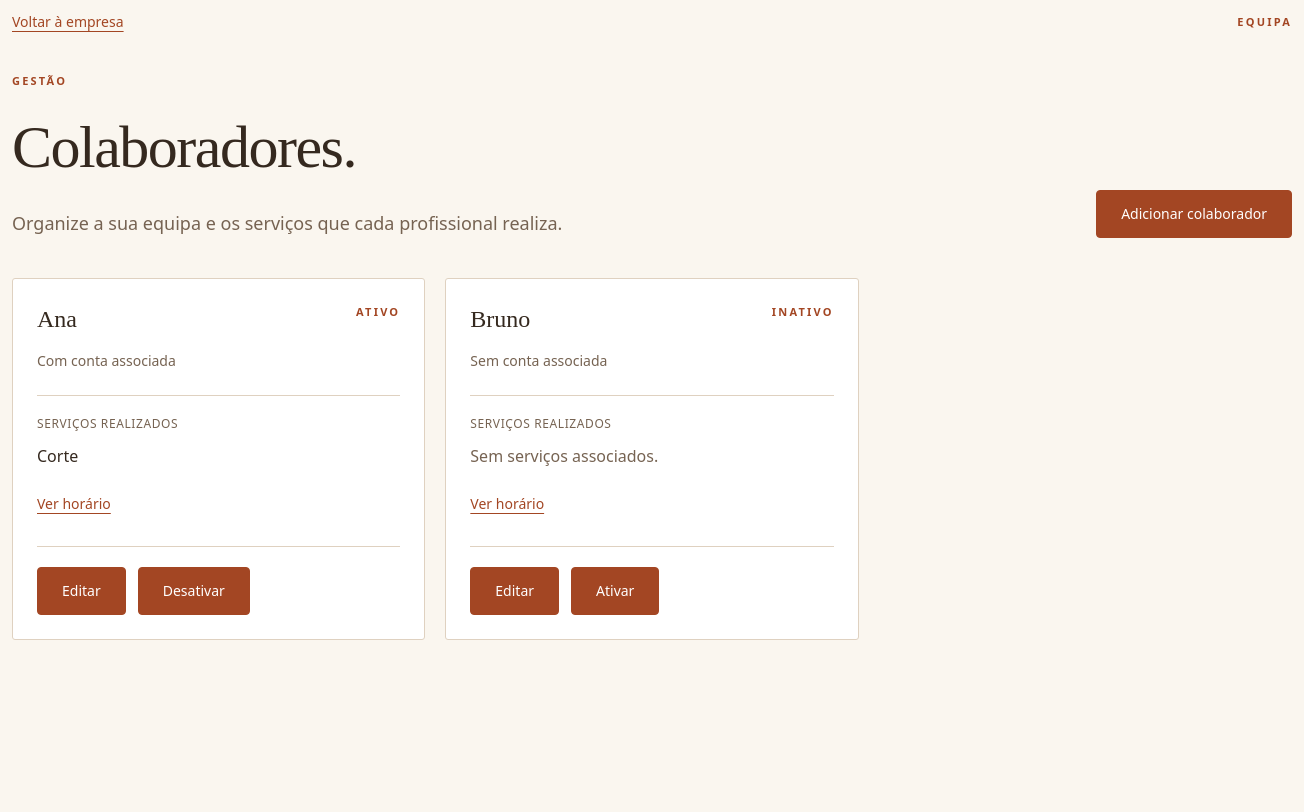
mostra falha de estado e volta a permitir a operação
The width and height of the screenshot is (1304, 812).
Click the button "Desativar": {"x": 194, "y": 591} [138, 567, 250, 615]
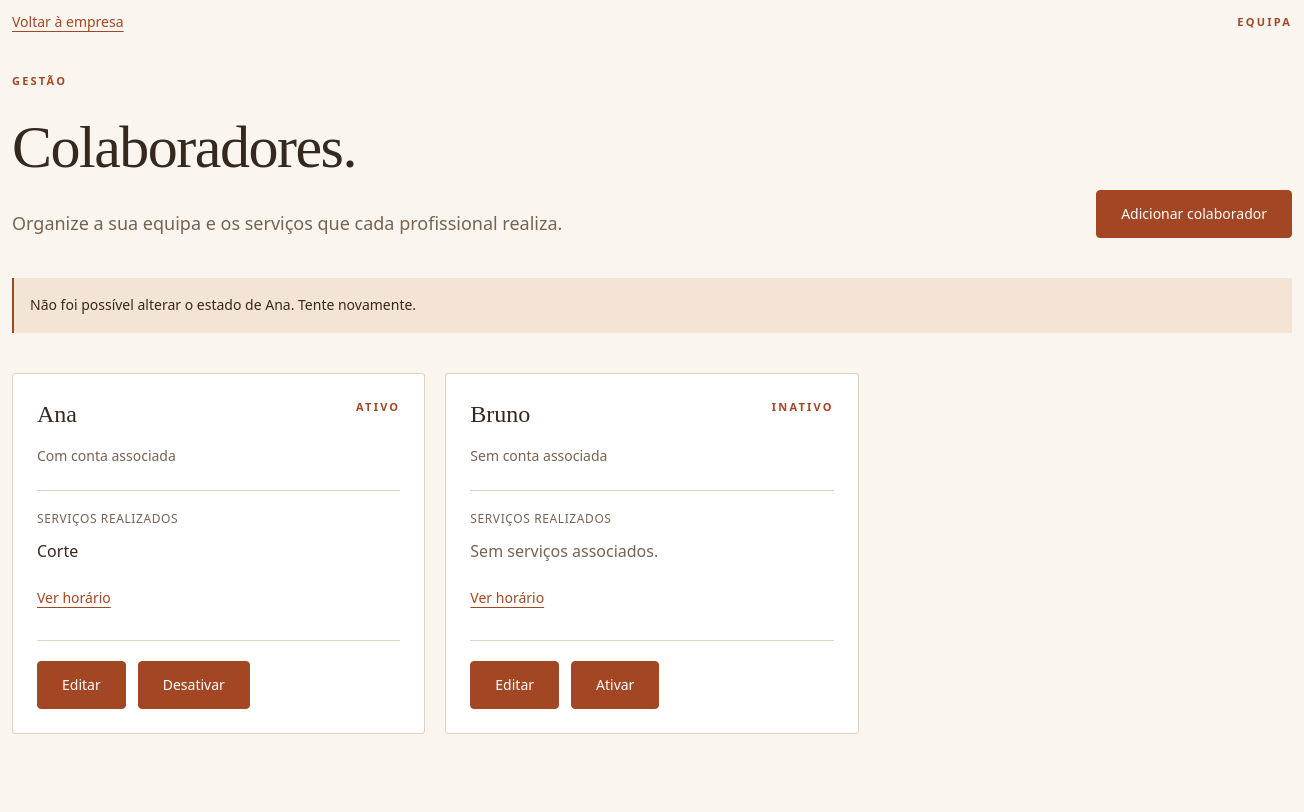
Expected: the button "Desativar" is enabled, [138, 661, 250, 709]
Now the message shows "Ana", box [30, 295, 416, 314]
